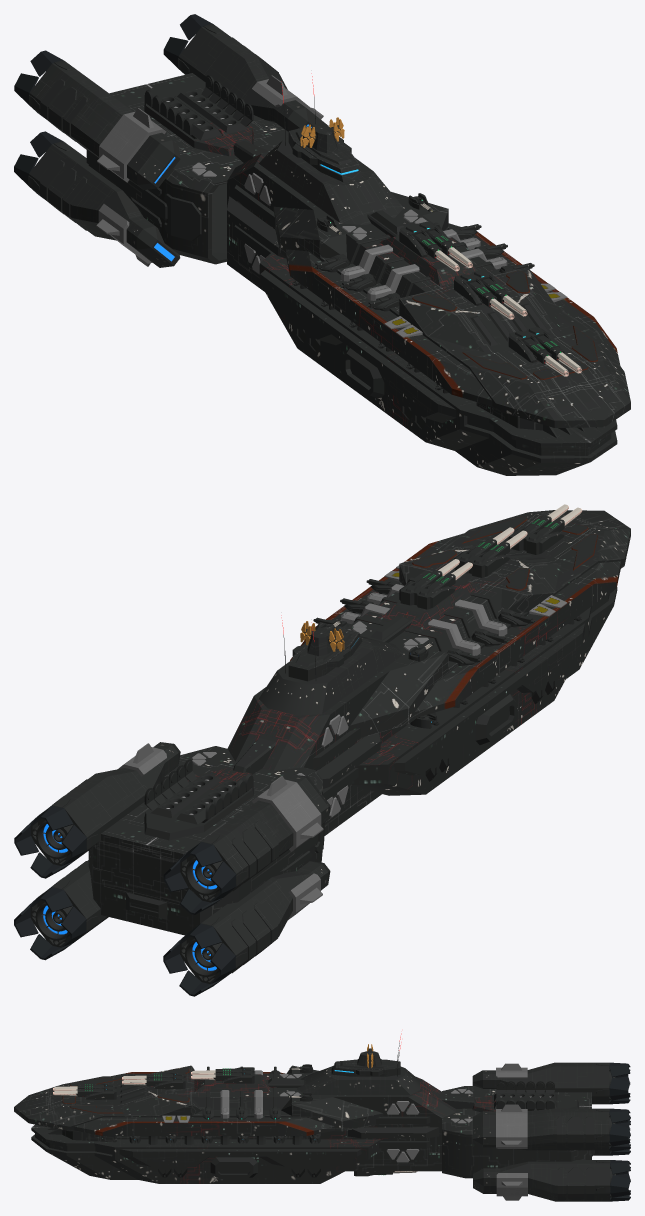
File: ship.gltf
3 renders of one model, top to bottom at view 1: azimuth 30°, elevation 25°; view 2: azimuth 150°, elevation 25°; view 3: azimuth 270°, elevation 25°, orthographic. The views are drawn at different scales.
Parts seen in each view (by area): view 1: Object364_body_0, Object378_body_0, Object399_body_0, engine002_parts_0, engine003_parts_0, Object239_parts_0, engine004, Object363_body_0, Object375_body_0, Object312_body_0, missle002, Object374_parts_0 (+6 smaller); view 2: Object364_body_0, Object378_body_0, Object399_body_0, engine002_parts_0, Object363_body_0, Object239_parts_0, engine003_parts_0, engine004, engine005, Object312_body_0, missle002, Object375_body_0 (+8 smaller); view 3: Object364_body_0, Object378_body_0, Object399_body_0, engine004, Object363_body_0, engine005, Object239_parts_0, engine002_parts_0, Object374_parts_0, missle_door004, Object312_body_0, missle002 (+12 smaller).
Boxes of the visible parts, x1,y1,x2,y2 form: Object364_body_0: [259, 192, 630, 475]; Object378_body_0: [88, 73, 597, 398]; Object399_body_0: [260, 223, 620, 422]; engine002_parts_0: [29, 60, 180, 189]; engine003_parts_0: [28, 141, 180, 267]; Object239_parts_0: [259, 73, 403, 224]; engine004: [178, 24, 328, 131]; Object363_body_0: [227, 151, 553, 430]; Object375_body_0: [86, 149, 201, 240]; Object312_body_0: [144, 83, 253, 156]; missle002: [160, 89, 247, 140]; Object374_parts_0: [227, 196, 286, 258]; Object364_body_0: [304, 510, 630, 795]; Object378_body_0: [88, 516, 597, 935]; Object399_body_0: [290, 533, 620, 775]; engine002_parts_0: [180, 774, 330, 902]; Object363_body_0: [227, 669, 408, 835]; Object239_parts_0: [259, 615, 403, 715]; engine003_parts_0: [180, 861, 330, 984]; engine004: [31, 742, 180, 866]; engine005: [30, 860, 108, 947]; Object312_body_0: [144, 768, 253, 840]; missle002: [150, 773, 238, 824]; Object375_body_0: [216, 823, 324, 903]; Object364_body_0: [14, 1065, 383, 1183]; Object378_body_0: [62, 1068, 591, 1178]; Object399_body_0: [74, 1072, 361, 1166]; engine004: [472, 1104, 615, 1150]; Object363_body_0: [62, 1077, 455, 1171]; engine005: [473, 1160, 615, 1201]; Object239_parts_0: [297, 1033, 420, 1094]; engine002_parts_0: [472, 1062, 615, 1104]; Object374_parts_0: [348, 1127, 439, 1138]; missle_door004: [496, 1081, 554, 1093]; Object312_body_0: [472, 1093, 578, 1112]; missle002: [494, 1093, 557, 1109].
Bounding box in the file's own units: 0.9097 × 0.954 × 3.56.
2 materials, 2 textured.
